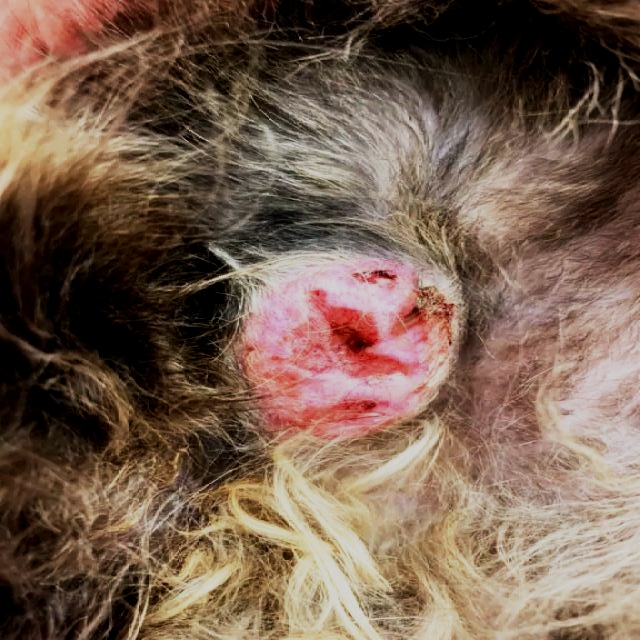lump_and_bump: (237, 243, 489, 438)
